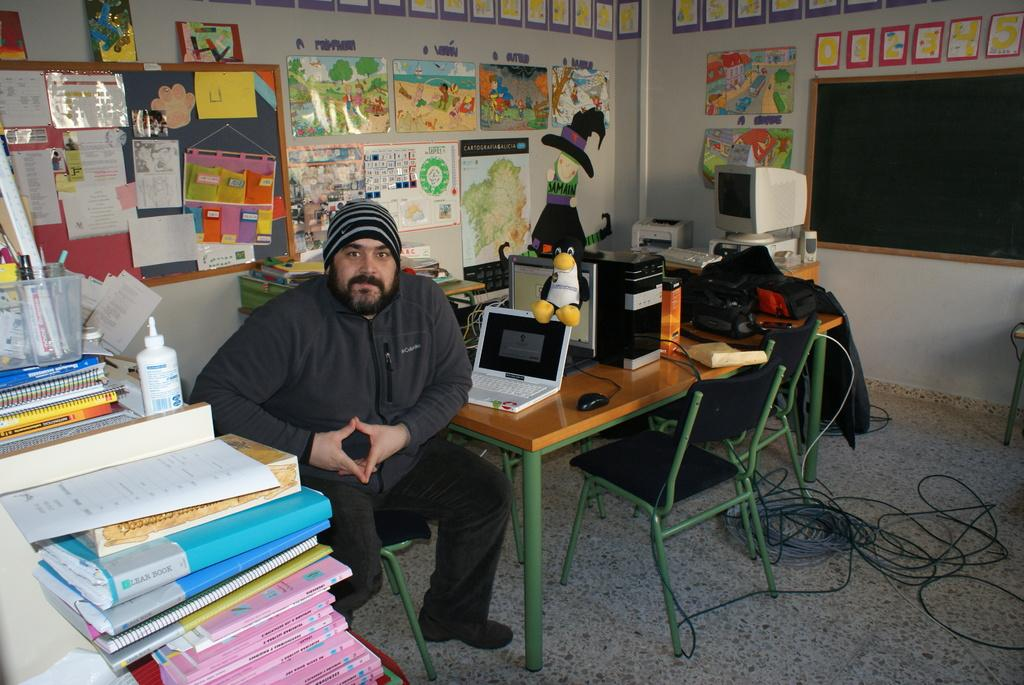Book: (27, 432, 404, 684), (0, 349, 124, 441)
